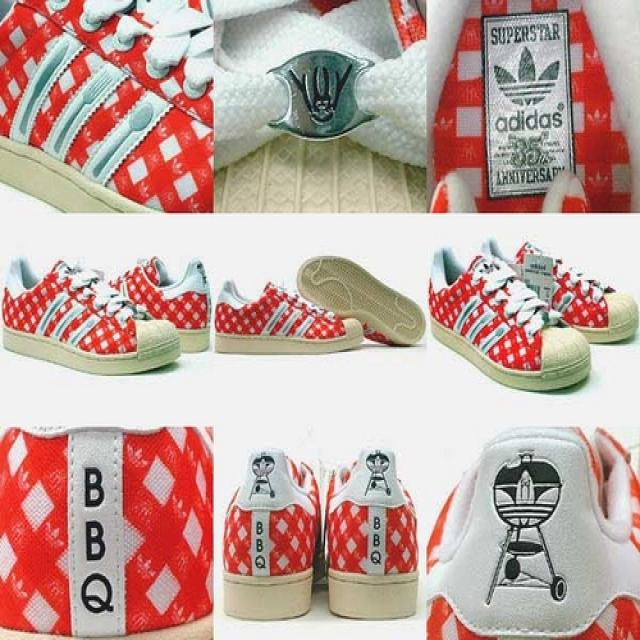adidas: (487, 43, 567, 137), (494, 468, 564, 534)
